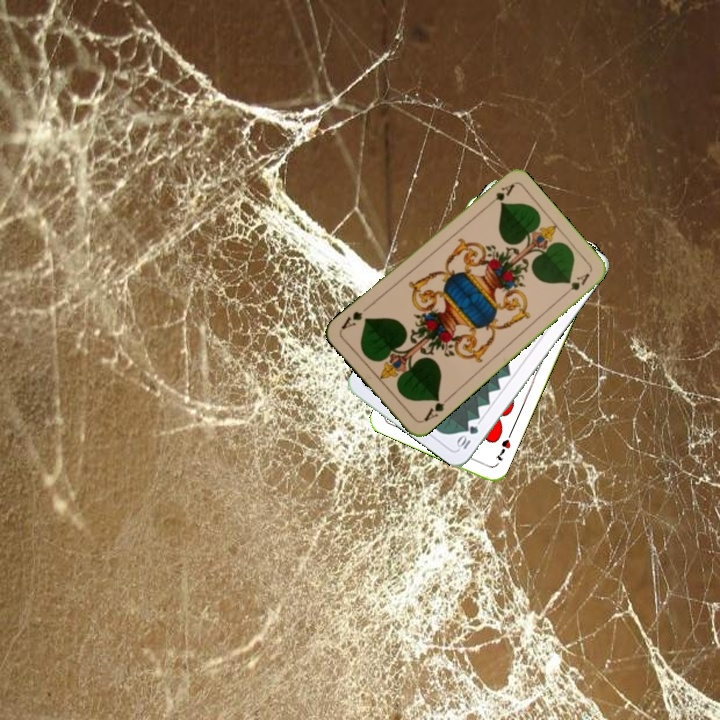G10: (453, 421, 481, 452)
GA: (418, 393, 452, 424), (482, 180, 517, 210)
H7: (491, 435, 513, 463)
